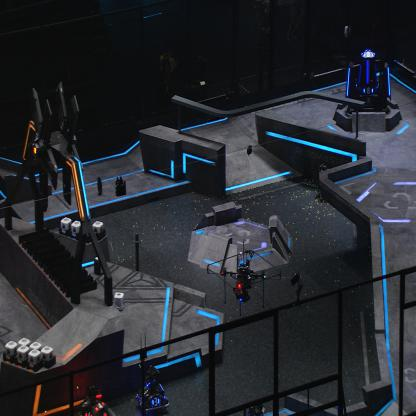car: (136, 362, 170, 413), (77, 384, 108, 416)
